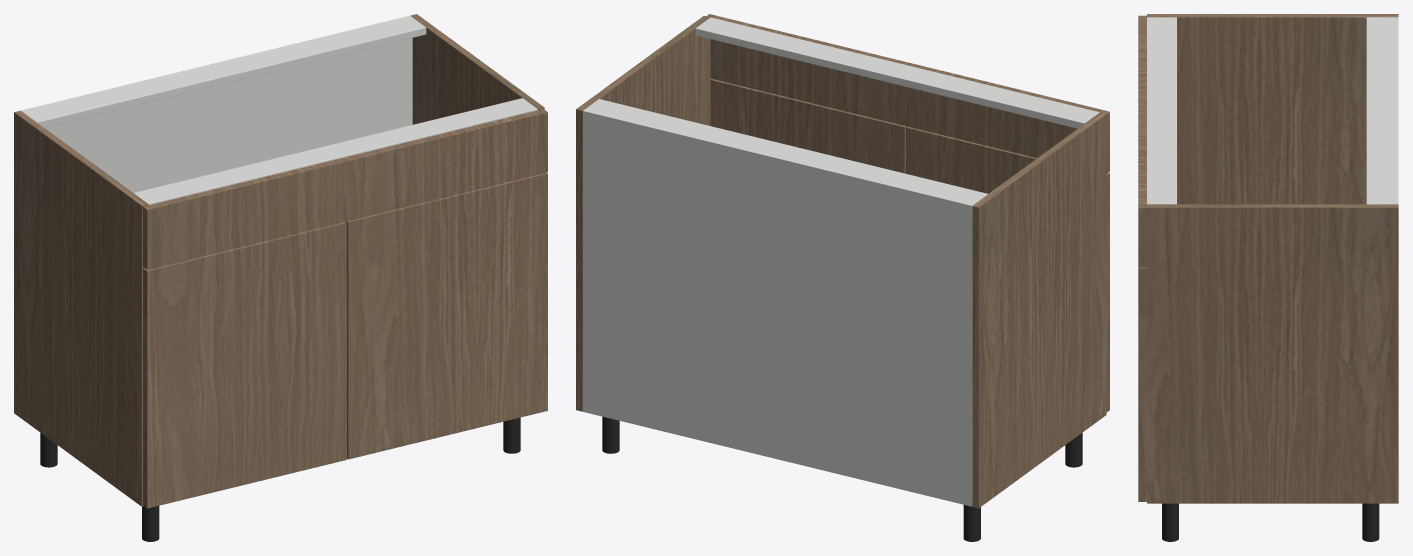
File: oppein-pb-mnw-sb42.glb
The picture shows the model from 3 angles, left to right: view 1: azimuth 30°, elevation 25°; view 2: azimuth 150°, elevation 25°; view 3: azimuth 270°, elevation 25°; orthographic projection.
Visible parts, largest first — view 1: Door, Door.001, Cabinet side, Cabinet back, False drawer front, Top support rail, Cabinet side.001, Top support rail.001; view 2: Cabinet back, Cabinet side, False drawer front, Door.001, Cabinet side.001, Top support rail.001, Door, Top support rail, Cabinet bottom, Adjustable foot, Adjustable foot.002; view 3: Cabinet side.001, Cabinet side, Top support rail.001, Top support rail, False drawer front, Door.001, Cabinet back, Adjustable foot.002, Adjustable foot.003.
Boxes of the visible parts, bbox=[...] form: Door: bbox=[143, 221, 346, 508]; Door.001: bbox=[346, 172, 547, 459]; Cabinet side: bbox=[14, 110, 148, 506]; Cabinet back: bbox=[21, 15, 412, 192]; False drawer front: bbox=[143, 109, 547, 269]; Top support rail: bbox=[23, 17, 426, 127]; Cabinet side.001: bbox=[410, 14, 544, 124]; Top support rail.001: bbox=[134, 98, 537, 205]; Cabinet back: bbox=[583, 109, 973, 506]; Cabinet side: bbox=[972, 112, 1106, 508]; False drawer front: bbox=[706, 14, 1109, 173]; Door.001: bbox=[710, 78, 906, 173]; Cabinet side.001: bbox=[576, 16, 710, 411]; Top support rail.001: bbox=[695, 17, 1099, 128]; Door: bbox=[906, 126, 1109, 412]; Top support rail: bbox=[586, 99, 987, 204]; Cabinet bottom: bbox=[583, 405, 971, 505]; Adjustable foot: bbox=[963, 505, 980, 541]; Adjustable foot.002: bbox=[602, 416, 619, 453]; Cabinet side.001: bbox=[1147, 204, 1398, 503]; Cabinet side: bbox=[1147, 14, 1398, 204]; Top support rail.001: bbox=[1147, 17, 1176, 204]; Top support rail: bbox=[1366, 17, 1393, 204]; False drawer front: bbox=[1138, 15, 1146, 267]; Door.001: bbox=[1138, 267, 1146, 501]; Cabinet back: bbox=[1393, 17, 1398, 204]; Adjustable foot.002: bbox=[1362, 503, 1379, 541]; Adjustable foot.003: bbox=[1162, 503, 1178, 541].
Bounding box in the file's own units: 1.07 × 0.8763 × 0.6064.
3 materials, 1 textured.
